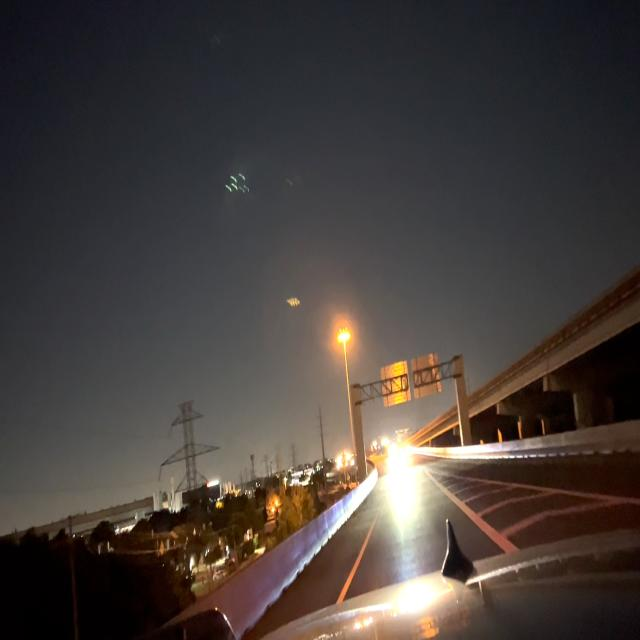back-of-sign: (381, 361, 410, 414), (411, 355, 442, 402)
